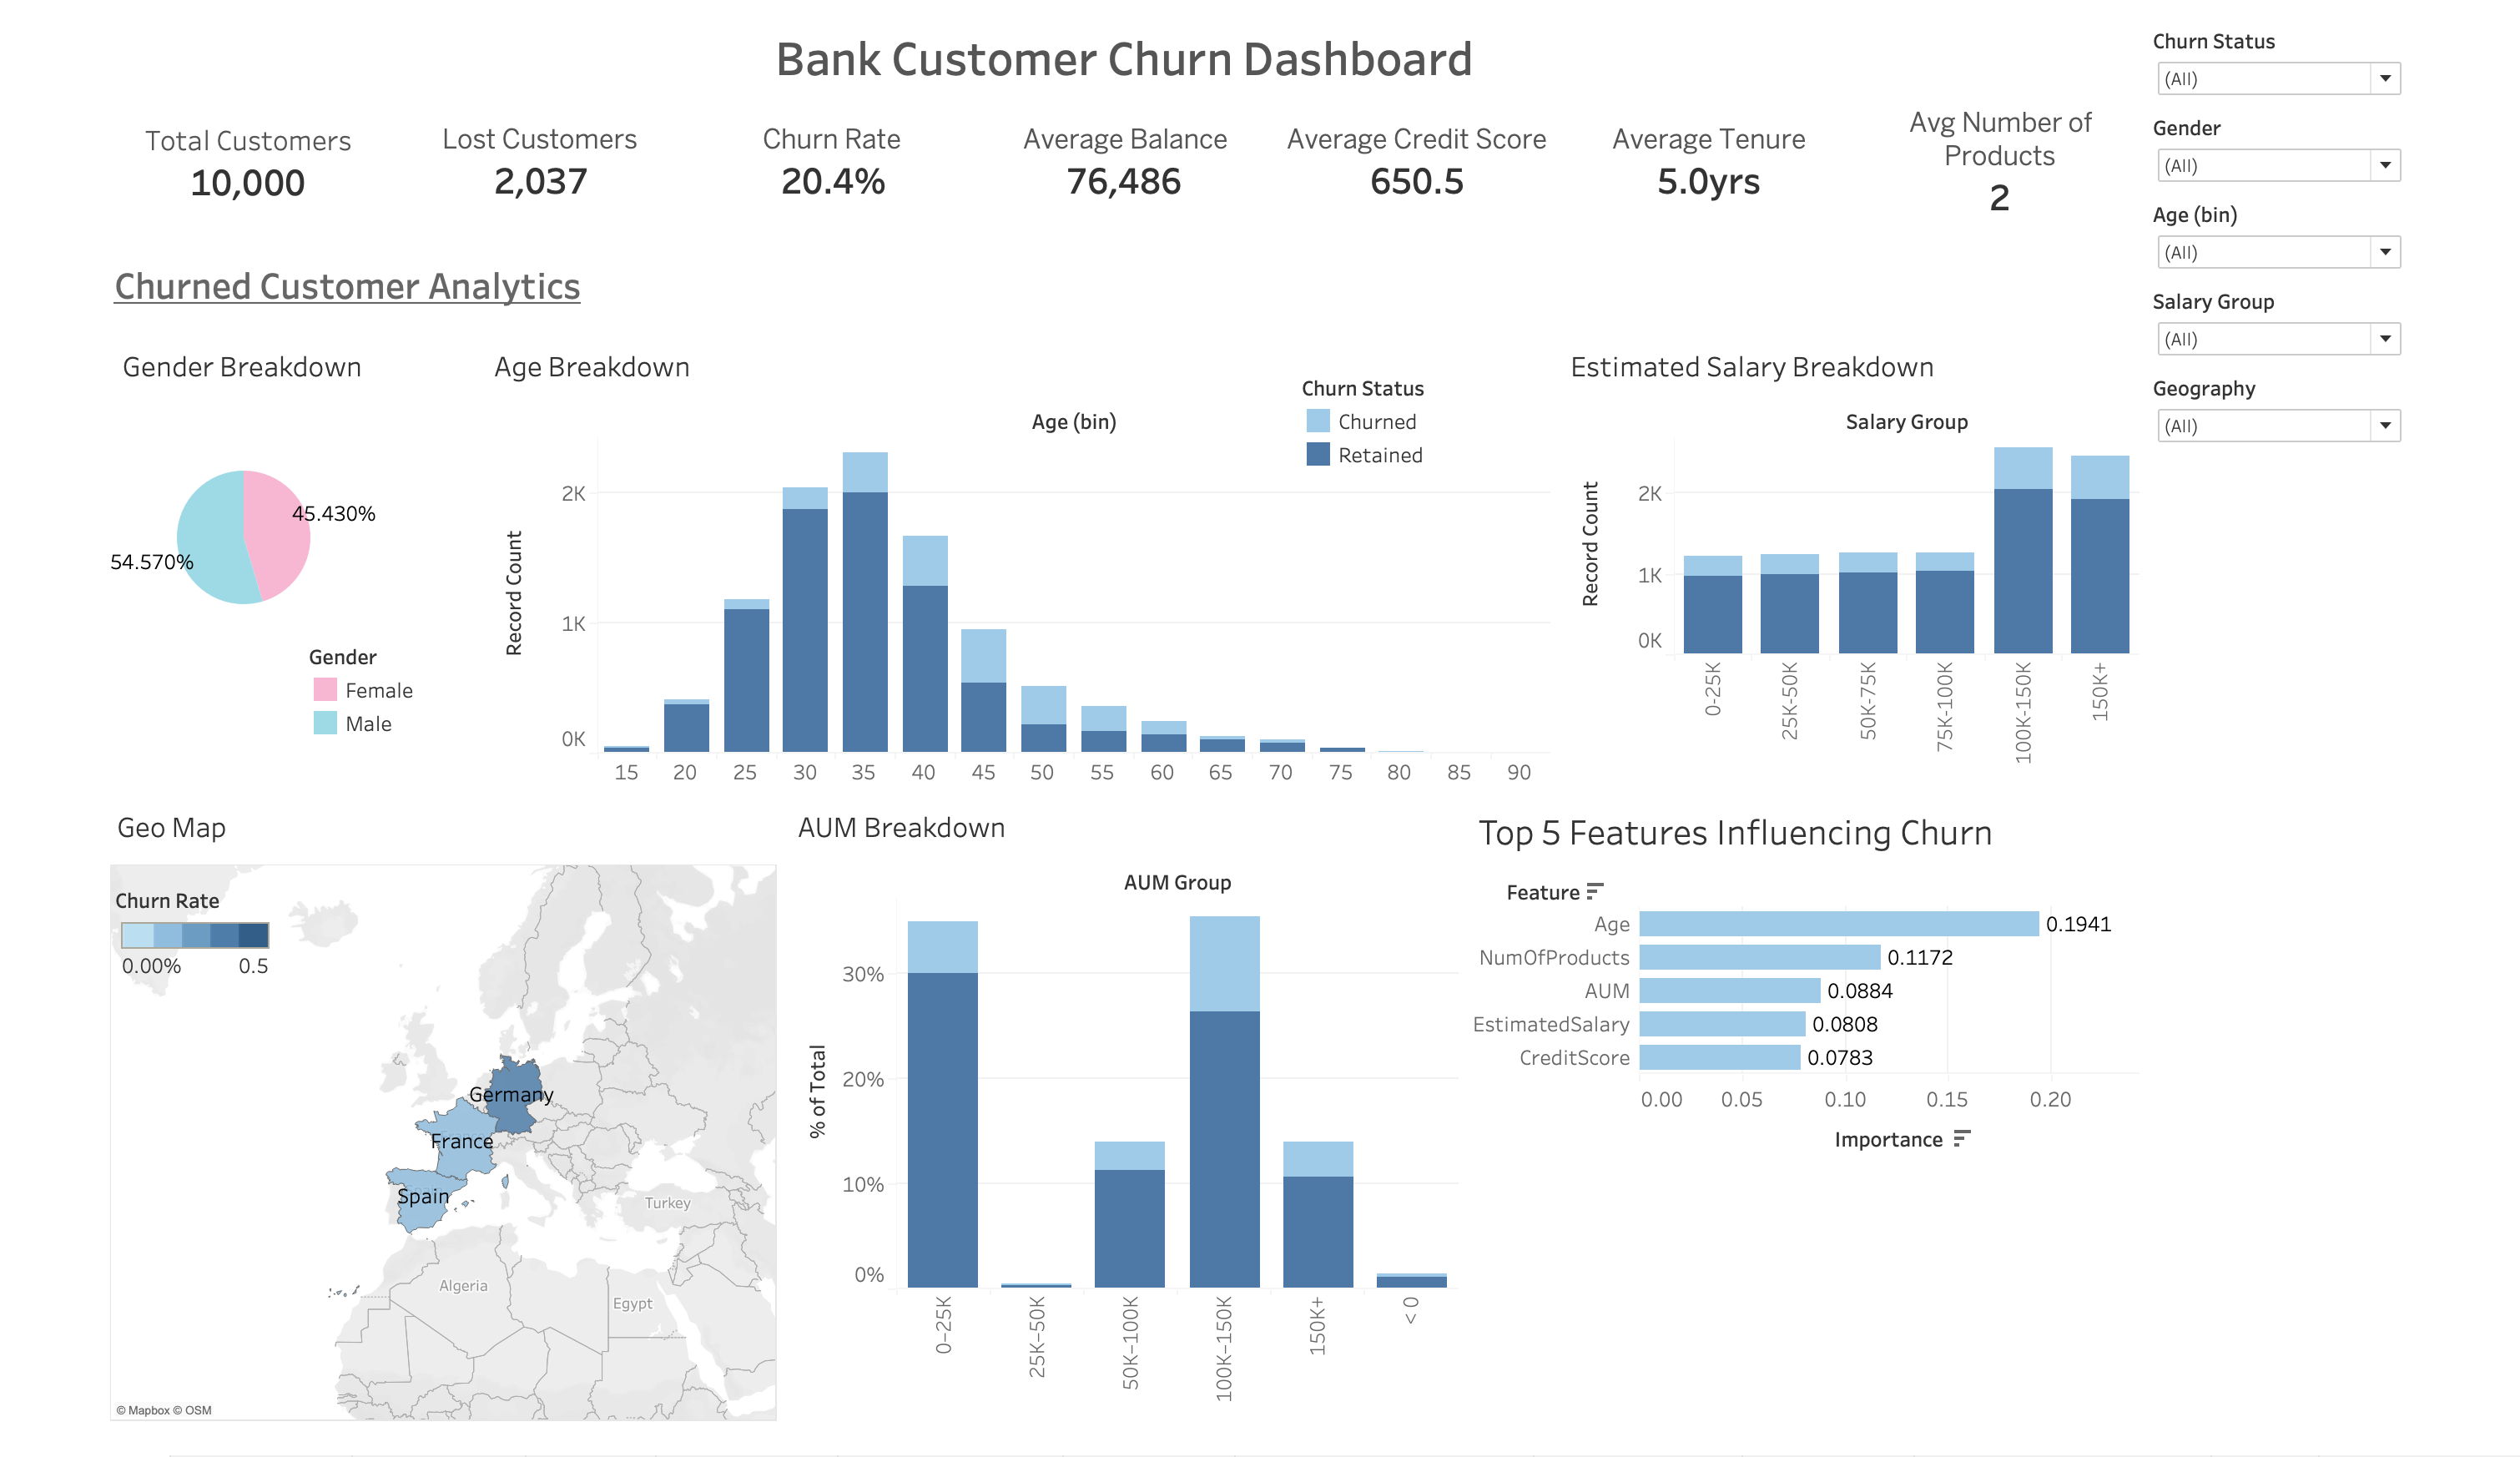

Layout of this report page (visuals, bound fields, positions):
{"tool":"tableau","page":{"name":"Dashboard 1","canvas":[1000,1000],"units":"permille","ordinal":0},"visuals":[{"type":"text","box":[5.7,10,874.3,51.2]},{"type":"filter","title":"Average Balance","param":"[federated.0nl8w6h0bdjq4015j5vpz1dkbr1m].[none:Calculation_2937613607105650688:n","box":[880,10,114.3,65]},{"type":"worksheet","title":"Total Customers","mark":"Automatic","box":[5.7,61.2,125,106.2]},{"type":"worksheet","title":"Lost Customers","mark":"Automatic","box":[130.7,61.2,125,106.2]},{"type":"worksheet","title":"Churn Rate","mark":"Automatic","box":[255.7,61.2,125,106.2]},{"type":"worksheet","title":"Average Balance","mark":"Automatic","box":[380.7,61.2,125,106.2]},{"type":"worksheet","title":"Average Credit Score","mark":"Automatic","box":[505.7,61.2,125,106.2]},{"type":"worksheet","title":"Average Tenure","mark":"Automatic","box":[630.7,61.2,125,106.2]},{"type":"worksheet","title":"Average Number of Products","mark":"Automatic","box":[755.7,61.2,124.3,106.2]},{"type":"filter","title":"Average Balance","param":"[federated.0nl8w6h0bdjq4015j5vpz1dkbr1m].[none:Gender:nk]","box":[880,75,114.3,65]},{"type":"filter","title":"Average Balance","param":"[federated.0nl8w6h0bdjq4015j5vpz1dkbr1m].[none:Age (bin):ok]","box":[880,140,114.3,65]},{"type":"text","box":[5.7,167.5,874.3,73.8]},{"type":"filter","title":"Average Balance","param":"[federated.0nl8w6h0bdjq4015j5vpz1dkbr1m].[none:Calculation_2937613607111790594:n","box":[880,205,114.3,65]},{"type":"worksheet","title":" Gender Breakdown","mark":"Pie","box":[5.7,241.2,161.4,307.6]},{"type":"worksheet","title":"Age Breakdown","mark":"Bar","rows":["Calculation_2937613607106715649"],"cols":["Age (bin)"],"box":[167.1,241.2,460.7,307.6]},{"type":"worksheet","title":"Estimated Salary Breakdown","mark":"Automatic","rows":["Calculation_2937613607106715649"],"cols":["Calculation_2937613607111790594"],"box":[627.8,241.2,252.2,307.6]},{"type":"legend","title":"Age Breakdown","param":"[federated.0nl8w6h0bdjq4015j5vpz1dkbr1m].[none:Calculation_2937613607105650688:n","box":[518.6,255.4,100,69.2]},{"type":"filter","title":"Average Balance","param":"[federated.0nl8w6h0bdjq4015j5vpz1dkbr1m].[none:Geography:nk]","box":[880,270,114.3,65]},{"type":"legend","title":" Gender Breakdown","param":"[federated.0nl8w6h0bdjq4015j5vpz1dkbr1m].[none:Gender:nk]","box":[93.6,442.5,100,70]},{"type":"worksheet","title":"Geo Map","mark":"Multipolygon","box":[5.7,548.8,291.4,441.2]},{"type":"worksheet","title":"AUM Breakdown","mark":"Automatic","rows":["Calculation_2937613607106715649"],"cols":["Calculation_6461539580364677122"],"box":[297.1,548.8,291.4,441.2]},{"type":"worksheet","title":"Top 5 Features Influencing Churn","mark":"Automatic","rows":["Feature"],"cols":["Importance"],"box":[588.6,548.8,291.4,441.2]},{"type":"legend","title":"Geo Map","param":"[federated.0nl8w6h0bdjq4015j5vpz1dkbr1m].[usr:Calculation_6970024120984416258:qk","box":[10.7,612.5,69.3,72.5]}]}

Visuals, with their boxes on the dashboard's canvas, which has no fixed pixel size, in thousandths of its width and height (x1, y1, x2, y2). These are canvas units, not pixel positions in the 2520x1457 screenshot, which may show the page scaled, cropped or inside an application window:
text: (6,10,880,61)
"Average Balance" filter: (880,10,994,75)
"Total Customers" worksheet: (6,61,131,167)
"Lost Customers" worksheet: (131,61,256,167)
"Churn Rate" worksheet: (256,61,381,167)
"Average Balance" worksheet: (381,61,506,167)
"Average Credit Score" worksheet: (506,61,631,167)
"Average Tenure" worksheet: (631,61,756,167)
"Average Number of Products" worksheet: (756,61,880,167)
"Average Balance" filter: (880,75,994,140)
"Average Balance" filter: (880,140,994,205)
text: (6,168,880,241)
"Average Balance" filter: (880,205,994,270)
" Gender Breakdown" worksheet (Pie marks): (6,241,167,549)
"Age Breakdown" worksheet (Bar marks): (167,241,628,549)
"Estimated Salary Breakdown" worksheet: (628,241,880,549)
"Age Breakdown" legend: (519,255,619,325)
"Average Balance" filter: (880,270,994,335)
" Gender Breakdown" legend: (94,442,194,512)
"Geo Map" worksheet (Multipolygon marks): (6,549,297,990)
"AUM Breakdown" worksheet: (297,549,588,990)
"Top 5 Features Influencing Churn" worksheet: (589,549,880,990)
"Geo Map" legend: (11,612,80,685)
